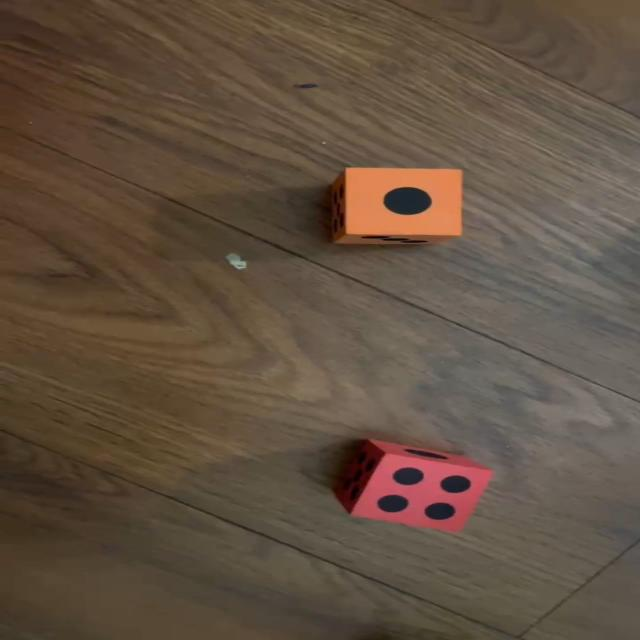red_block: (336, 438, 496, 532)
